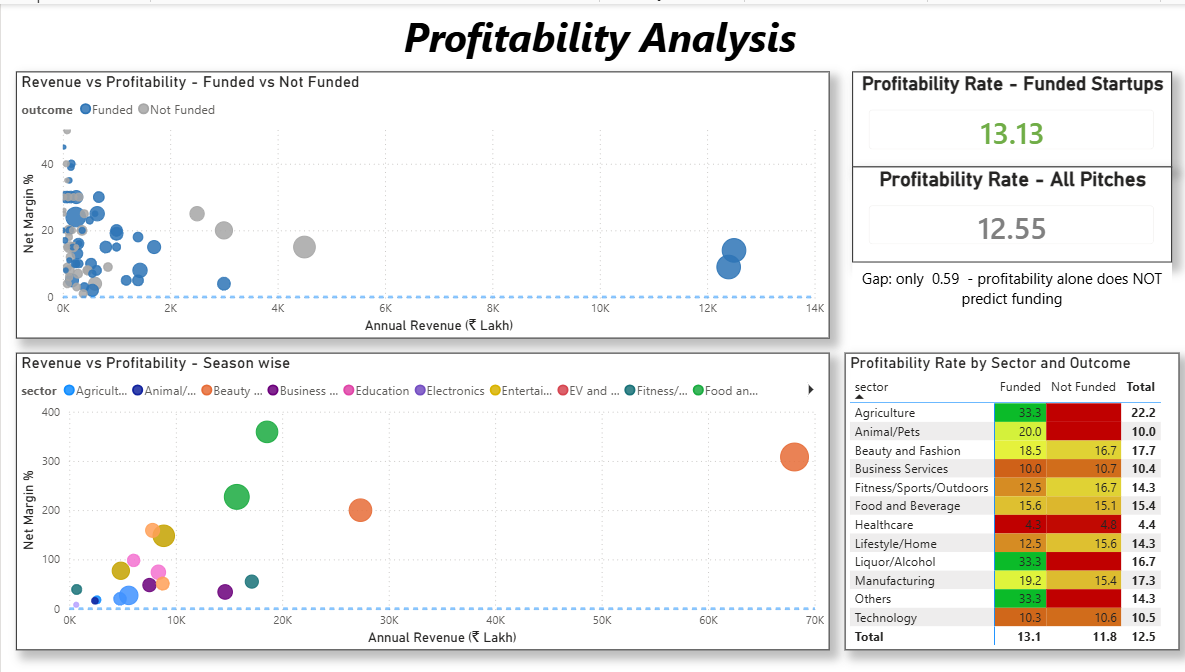

The page's visual inventory and layout, read from the dashboard file:
{"tool":"powerbi","page":{"name":"Profitability Analysis","canvas":[1280,720],"ordinal":3},"visuals":[{"type":"textbox","box":[9.7,0,1270.3,72.9],"z":0},{"type":"scatterChart","title":"Revenue vs Profitability - Funded vs Not Funded","fields":{"X":["Sum(pitches.yearly_revenue_lakh)"],"Y":["Sum(pitches.net_margin_pct)"],"Category":["pitches.startup_name"],"Series":["pitches.outcome"],"Size":["Sum(pitches.ask_valuation_lakh)"]},"box":[16.4,72.5,875.5,287.6],"z":1000},{"type":"cardVisual","title":"Profitability Rate - Funded Startups","fields":{"Data":["Measures_table.Funded Profitability Rate %"]},"box":[916.5,72.5,343.7,102.9],"z":2000},{"type":"cardVisual","title":"Profitability Rate - All Pitches","fields":{"Data":["Measures_table.Profitability Rate %"]},"box":[916.5,175.3,343.7,102.9],"z":3000},{"type":"pivotTable","title":"Profitability Rate by Sector and Outcome","fields":{"Rows":["pitches.sector"],"Columns":["pitches.outcome"],"Values":["Measures_table.Profitability Rate %"]},"box":[908.3,375.2,360,320.3],"z":4000},{"type":"textbox","box":[916.5,278.2,343.7,64.3],"z":4003},{"type":"scatterChart","title":"Revenue vs Profitability - Season wise","fields":{"X":["Sum(pitches.yearly_revenue_lakh)"],"Y":["Sum(pitches.net_margin_pct)"],"Size":["Sum(pitches.ask_valuation_lakh)"],"Category":["pitches.outcome"],"Series":["pitches.sector"]},"box":[16.4,375.2,875.5,320.3],"z":4004}]}

Visuals, with their boxes in screenshot pixels (x1, y1, x2, y2), scaled from the page's 1280x720 canvas onto the 1185x672 screenshot:
textbox: <box>9,0,1184,68</box>
"Revenue vs Profitability - Funded vs Not Funded" scatterChart: <box>15,68,826,336</box>
"Profitability Rate - Funded Startups" cardVisual: <box>848,68,1167,164</box>
"Profitability Rate - All Pitches" cardVisual: <box>848,164,1167,260</box>
"Profitability Rate by Sector and Outcome" pivotTable: <box>841,350,1174,649</box>
textbox: <box>848,260,1167,320</box>
"Revenue vs Profitability - Season wise" scatterChart: <box>15,350,826,649</box>
